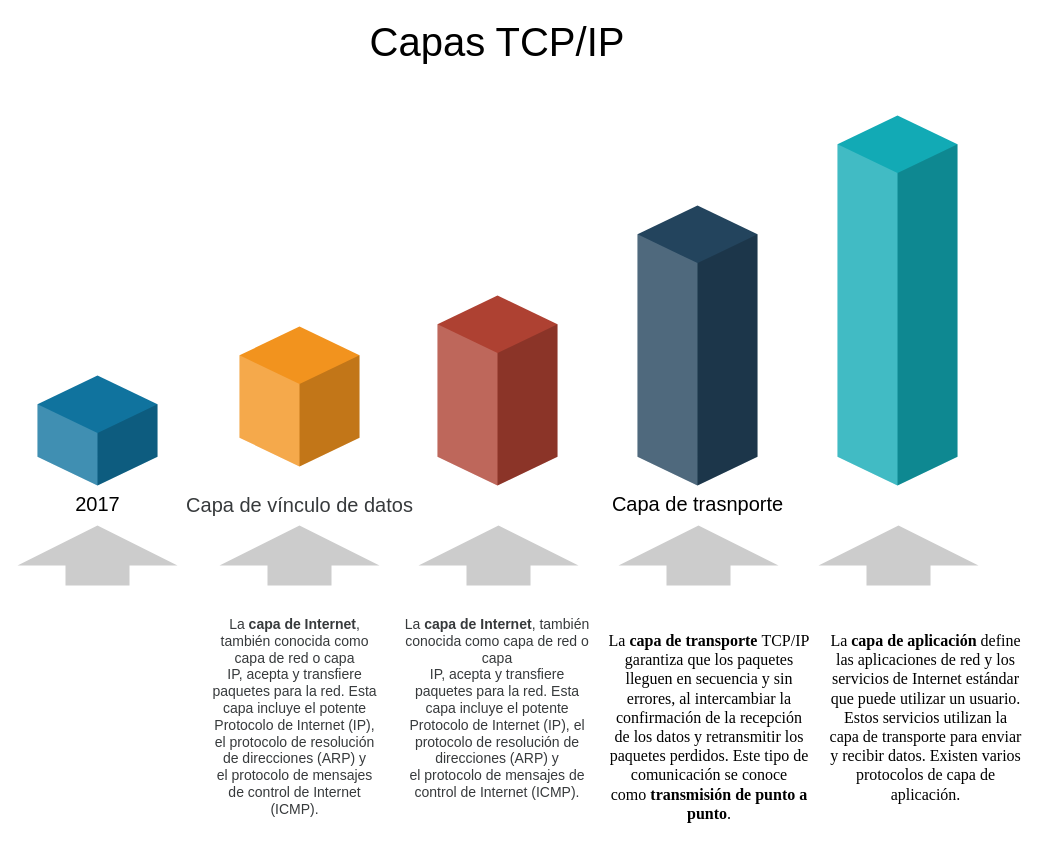
Some shapes in this 1044 by 858 pixel diagram are drawn without their labels. The shapes that lost their labels are listed below. From the top down, each one's centre as x and y in pixels, then its label:
(897,300): capa Aplicación
(497,390): Capa Internet
